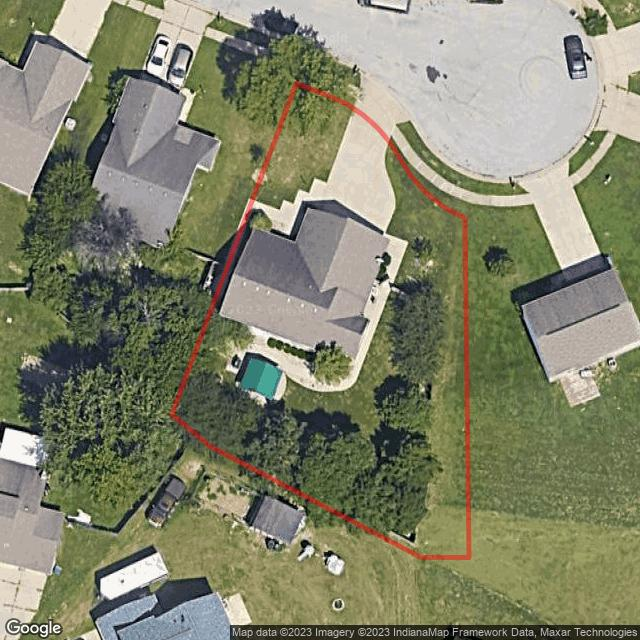Driveway: (223, 234, 408, 392), (254, 116, 395, 234), (234, 372, 287, 407)
Extra Driveway: (356, 74, 410, 134)
Extra Lawn: (390, 136, 471, 216), (398, 121, 477, 193), (305, 48, 361, 90)
Extra Sidewalk: (391, 126, 474, 204), (296, 62, 361, 103)
House: (220, 208, 389, 355)
Other: (240, 354, 281, 398)
